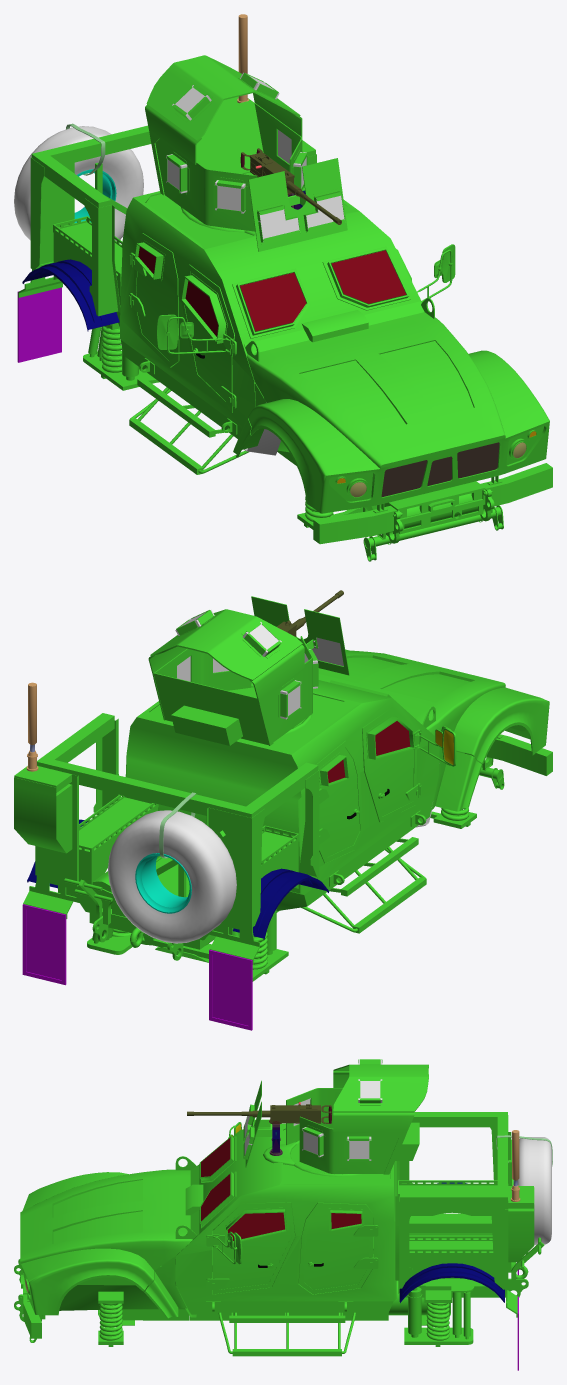
Rendered from vehiclefinal.fbx.
3 views of the same model, one above another, from view 1: azimuth 30°, elevation 25°; view 2: azimuth 150°, elevation 25°; view 3: azimuth 270°, elevation 25° (orthographic). The views are drawn at different scales.
Parts seen in each view (by area): view 1: Vehicle, Tire_low.001, Glass, Machine Gun; view 2: Vehicle, Tire_low.001, Glass, Machine Gun; view 3: Vehicle, Tire_low.001, Machine Gun, Glass.
Part boxes in pixels (x1,y1,x2,y2): Vehicle: (17, 14, 552, 561); Tire_low.001: (14, 126, 143, 241); Glass: (166, 72, 344, 241); Machine Gun: (240, 148, 341, 224); Vehicle: (14, 596, 552, 1030); Tire_low.001: (108, 810, 236, 943); Glass: (175, 609, 343, 719); Machine Gun: (276, 590, 343, 649); Vehicle: (14, 1059, 552, 1370); Tire_low.001: (517, 1137, 551, 1244); Machine Gun: (187, 1102, 331, 1155); Glass: (244, 1060, 382, 1160).
Bounding box in the file's own units: 332 × 339 × 646.
